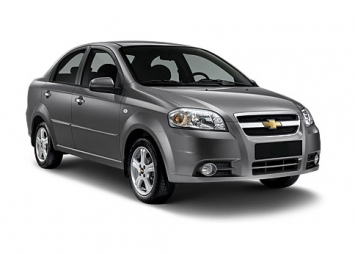sedan: (24, 38, 323, 204)
